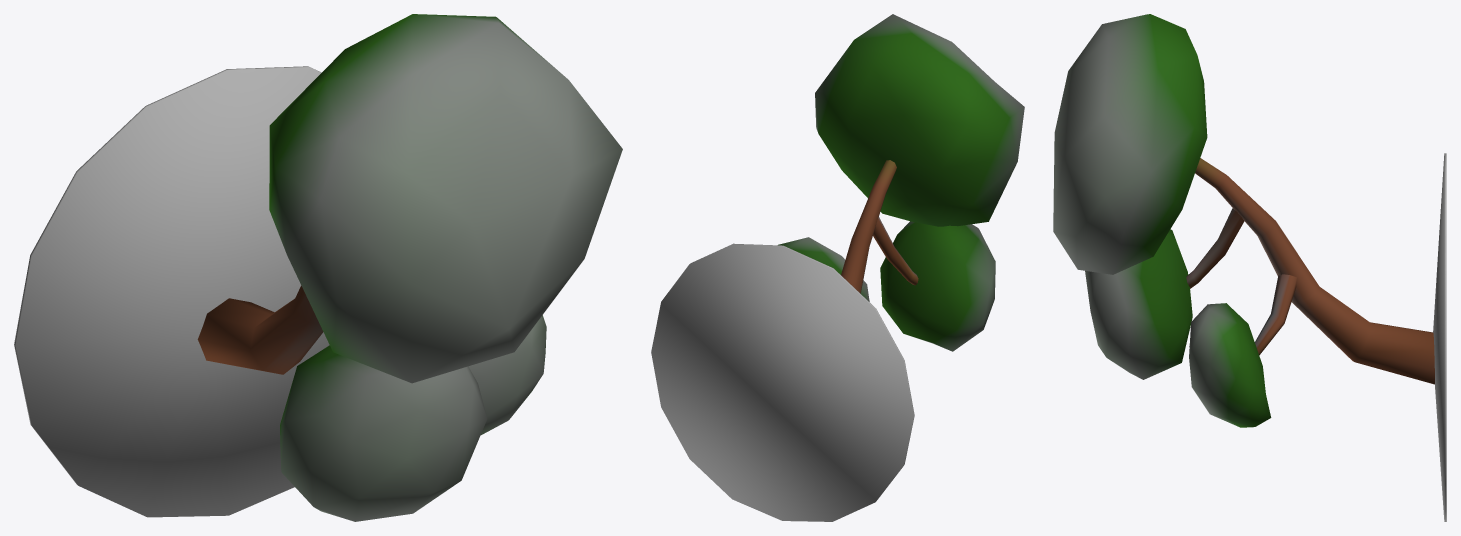
The model's file is treenew.glb.
The picture shows the model from 3 angles, left to right: view 1: azimuth 30°, elevation 25°; view 2: azimuth 150°, elevation 25°; view 3: azimuth 270°, elevation 25°; orthographic projection. The views are drawn at different scales.
Visible parts, largest first — view 1: Cylinder.021; view 2: Cylinder.021; view 3: Cylinder.021.
Boxes of the visible parts, bbox=[...] form: Cylinder.021: bbox=[14, 14, 622, 521]; Cylinder.021: bbox=[651, 14, 1024, 521]; Cylinder.021: bbox=[1053, 14, 1446, 521].
Size of the model in its own units: 22.69 by 33.03 by 24.28.
